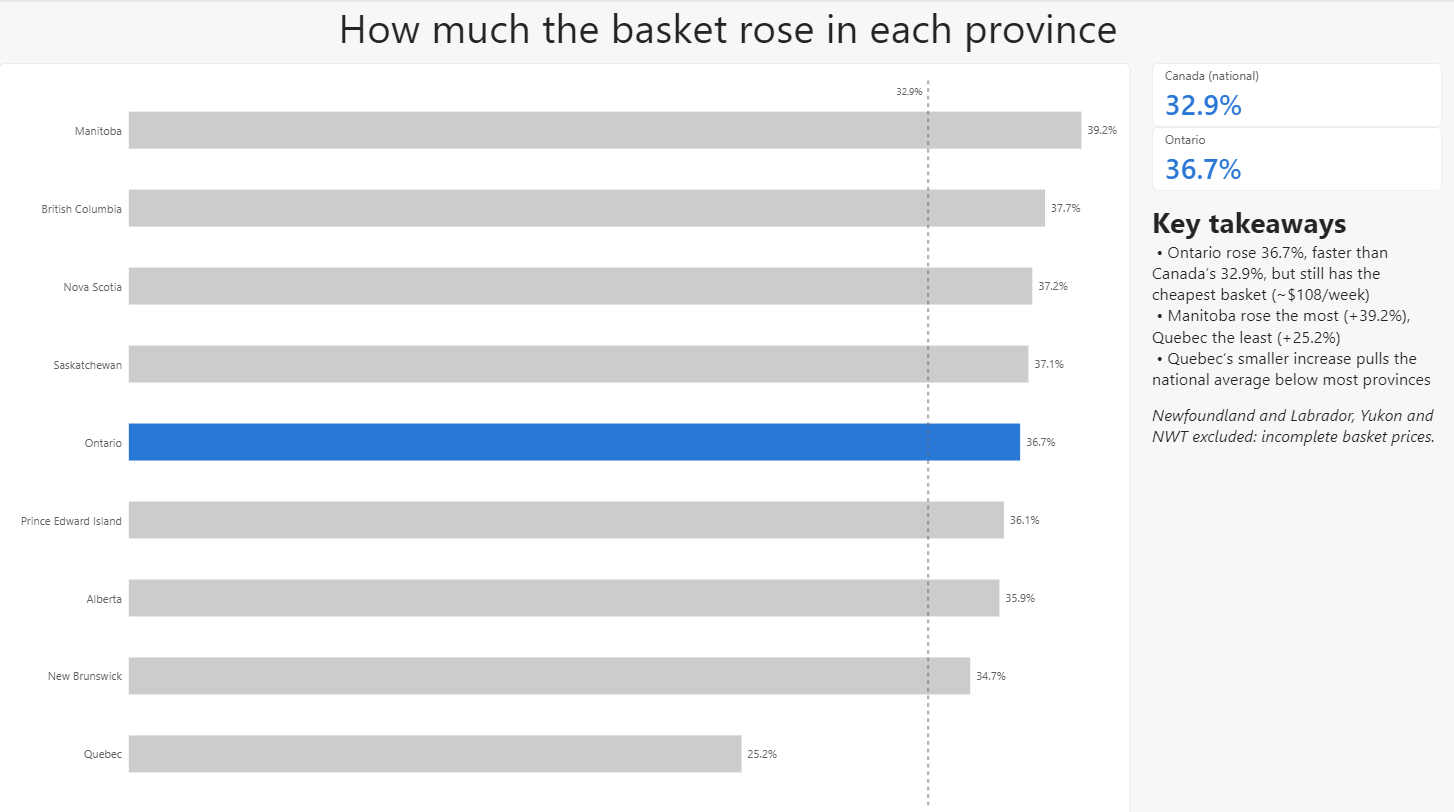

What the dashboard file says about the page in this screenshot:
{"tool":"powerbi","page":{"name":"Provinces","canvas":[1920,1080],"ordinal":2},"visuals":[{"type":"textbox","box":[430.4,0,1059.2,138.6],"z":0},{"type":"clusteredBarChart","fields":{"Category":["prices_clean.province"],"Y":["prices_clean.% Change vs 2019"]},"box":[0,84.6,1489.6,995],"z":1000},{"type":"cardVisual","fields":{"Data":["prices_clean.Ontario % Change"]},"box":[1518.8,169.2,382.2,84.6],"z":2000},{"type":"cardVisual","fields":{"Data":["prices_clean.Canada % Change"]},"box":[1518.8,84.6,382.2,84.6],"z":3000},{"type":"textbox","box":[1518.8,268.4,382.2,348.7],"z":4000}]}

Visuals, with their boxes in screenshot pixels (x1, y1, x2, y2), scaled from the page's 1920x1080 canvas onto the 1454x812 screenshot:
textbox: 326:0:1128:104
clusteredBarChart - prices_clean.province x prices_clean.% Change vs 2019: 0:64:1128:811
cardVisual - prices_clean.Ontario % Change: 1150:127:1440:191
cardVisual - prices_clean.Canada % Change: 1150:64:1440:127
textbox: 1150:202:1440:464
